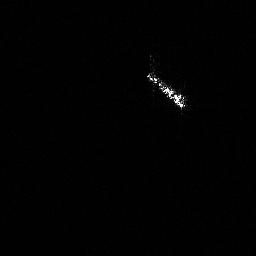ship: (144, 69, 189, 110)
